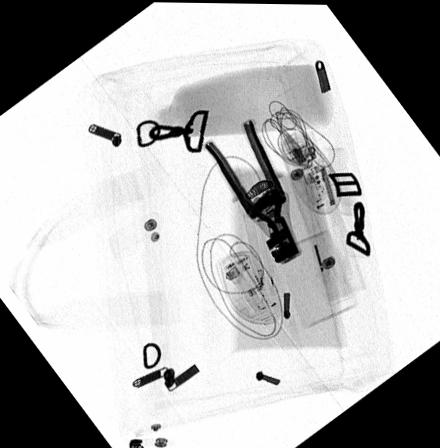Pliers: (203, 116, 300, 264)
